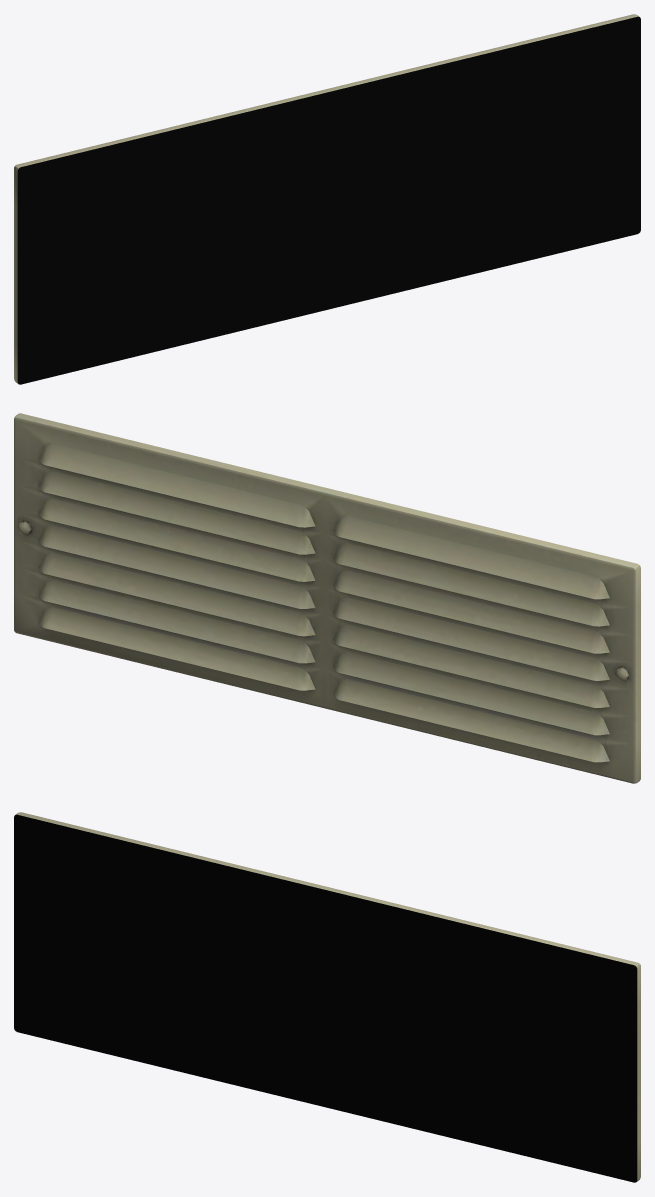
3 views of the same model, one above another, from view 1: azimuth 30°, elevation 25°; view 2: azimuth 150°, elevation 25°; view 3: azimuth 330°, elevation 25° (orthographic).
Visible parts, largest first — view 1: body0_model0_lod0_mesh0; view 2: body0_model0_lod0_mesh0; view 3: body0_model0_lod0_mesh0.
Boxes of the visible parts, x1,y1,x2,y2 form: body0_model0_lod0_mesh0: [14, 14, 640, 384]; body0_model0_lod0_mesh0: [14, 413, 640, 783]; body0_model0_lod0_mesh0: [14, 812, 640, 1182].
Bounding box in the file's own units: 72 × 24 × 2.
1 material, 1 textured.
